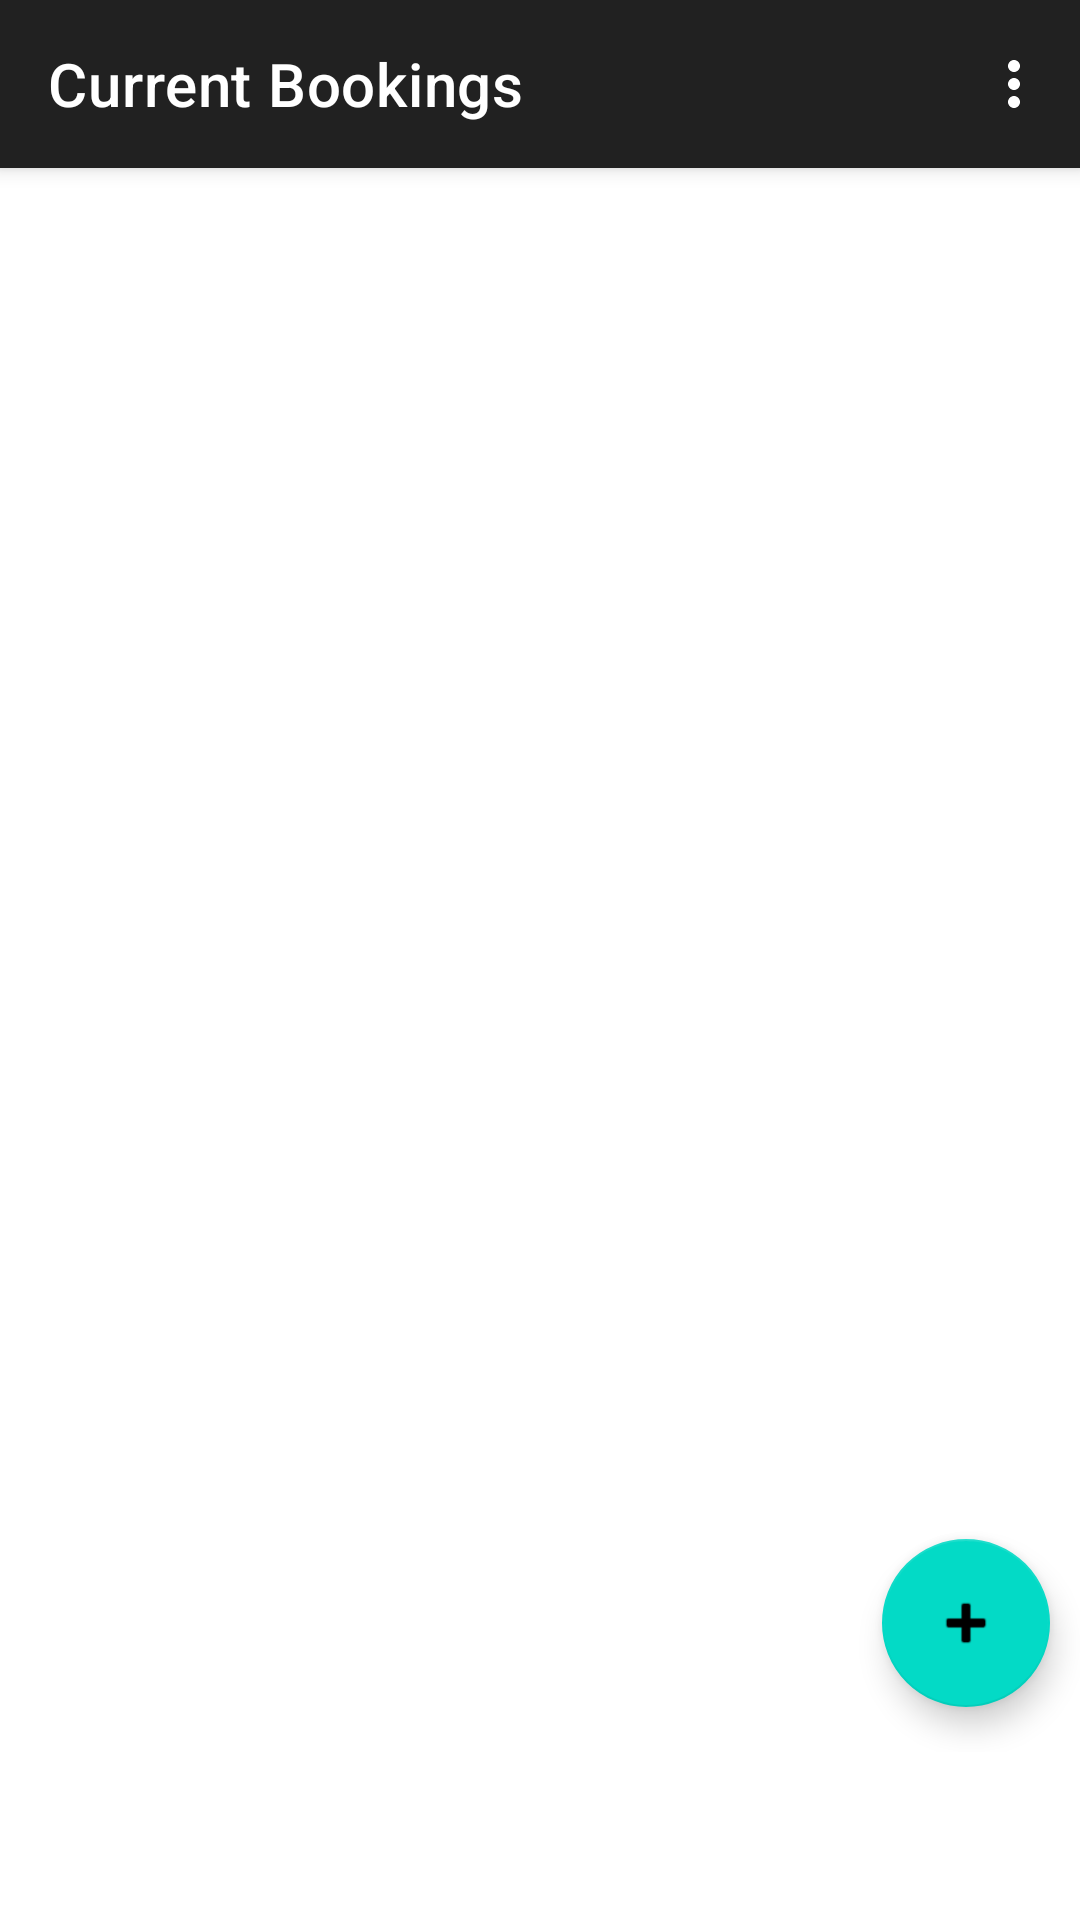

Named icons in this screenshot (1080x1920) and their bounding boxes, (x1, y1, x2, y2):
new booking: (882, 1539, 1050, 1707)
